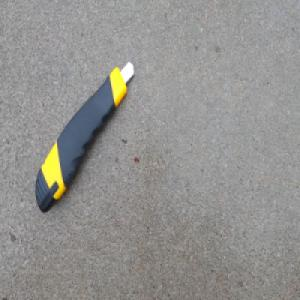Cutter: (34, 59, 134, 216)
